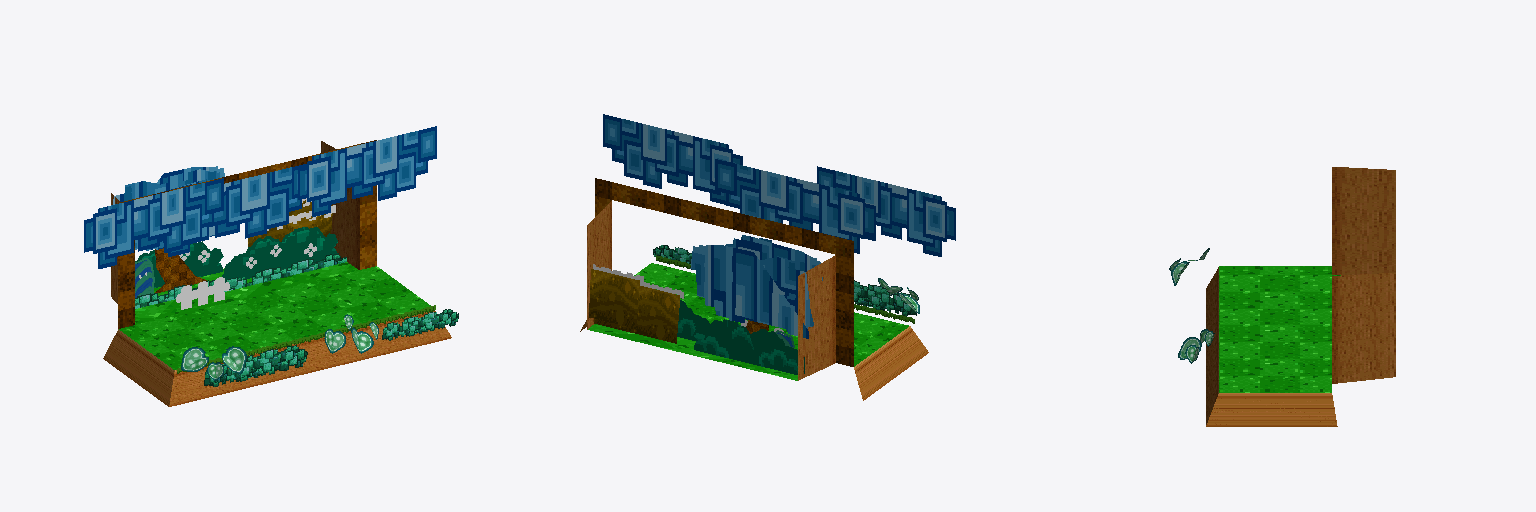
3 renders of one model, left to right at view 1: azimuth 30°, elevation 25°; view 2: azimuth 150°, elevation 25°; view 3: azimuth 270°, elevation 25°, orthographic.
Size of the model in its own units: 0.53 by 0.26 by 0.291.
Materials: 11 (10 with a texture image).